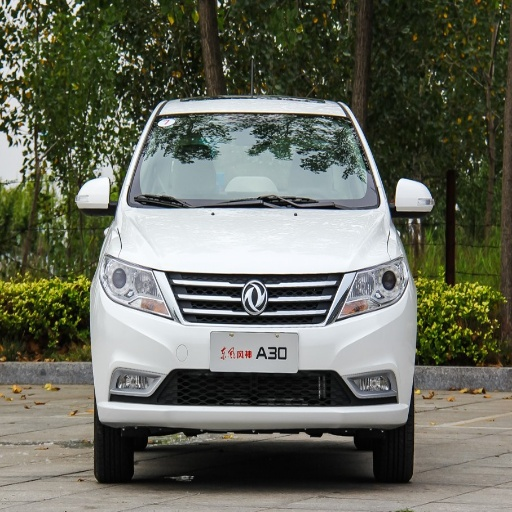front_bumper: (94, 269, 411, 431)
front_right_light: (99, 254, 173, 317)
hood: (115, 207, 392, 274)
left_mirror: (393, 178, 434, 217)
